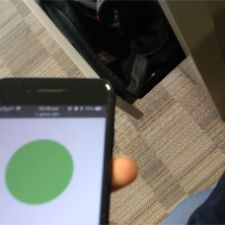focus: (4, 132, 80, 209)
